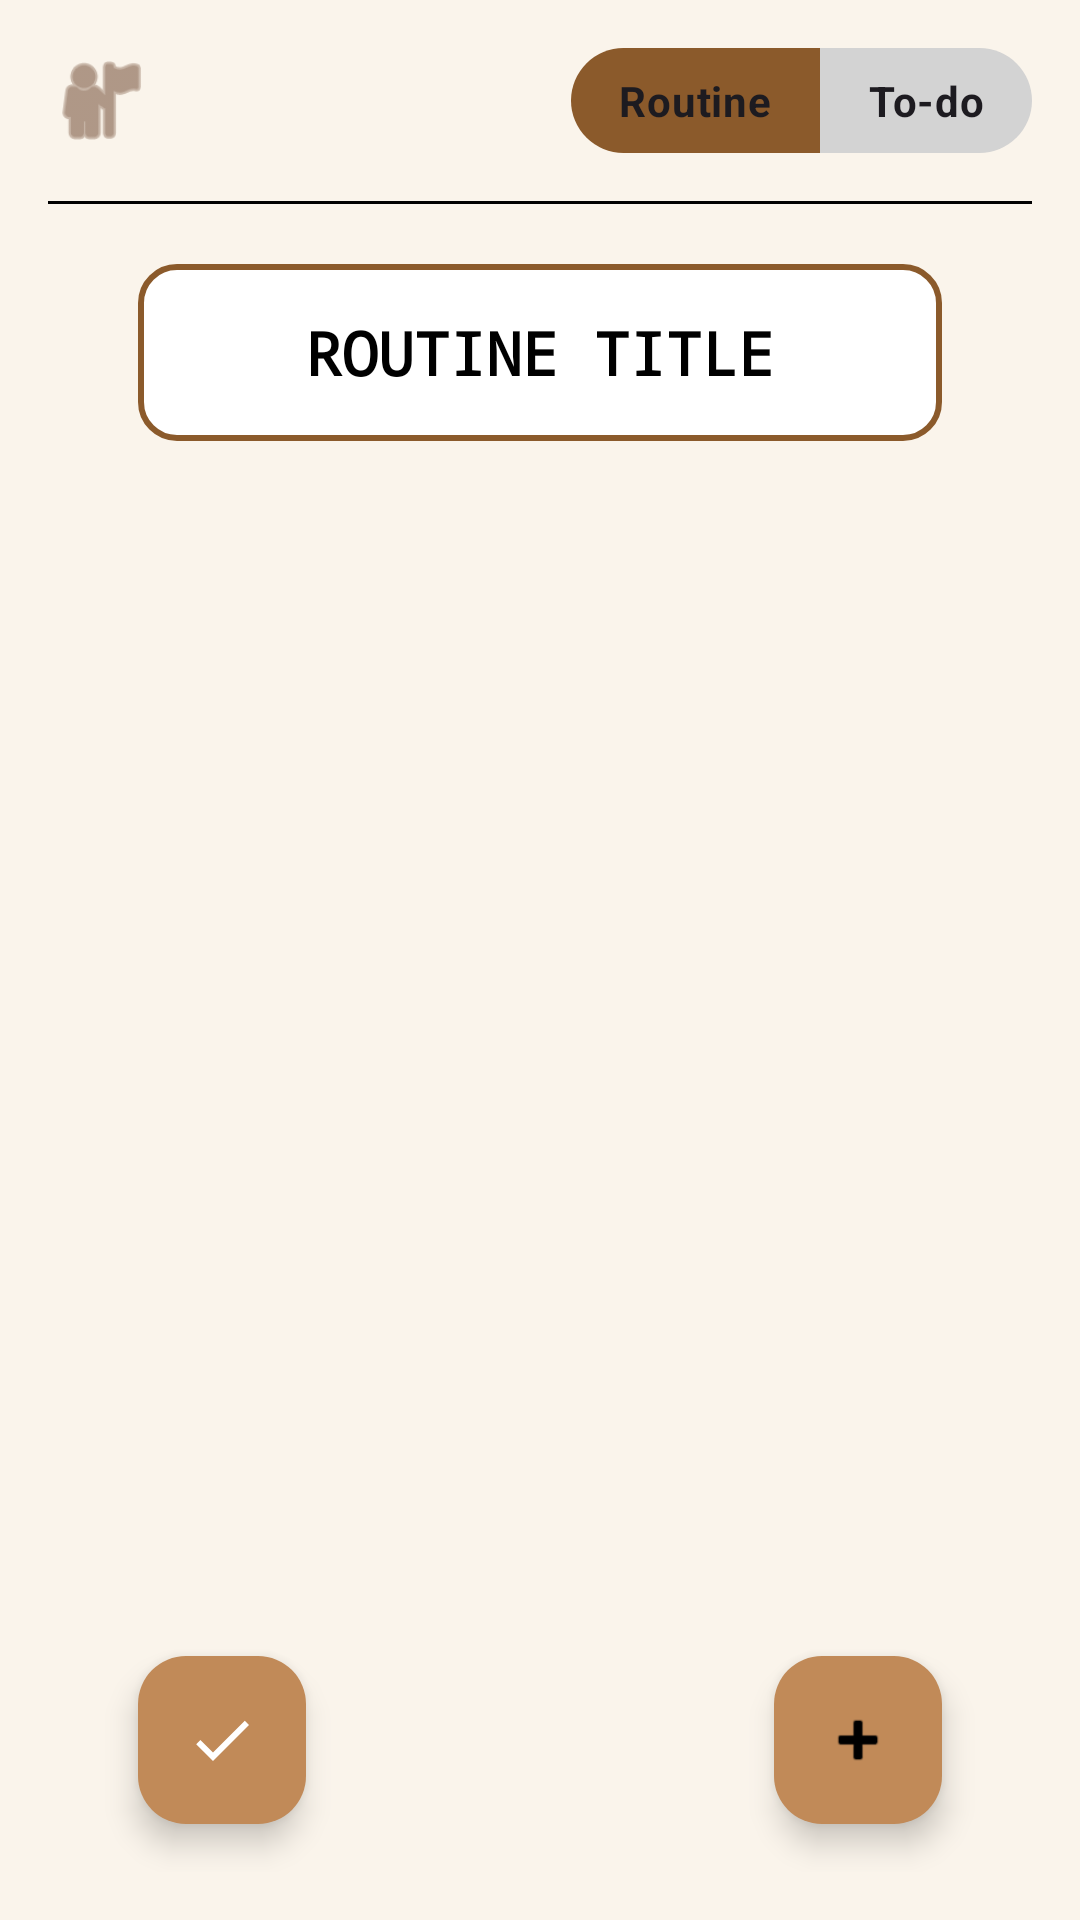

Icon click points for this 1080 × 1920 phone screenshot, format (x=x, y=y):
add: (x=858, y=1740)
done: (x=222, y=1740)
myplaces: (x=101, y=100)
